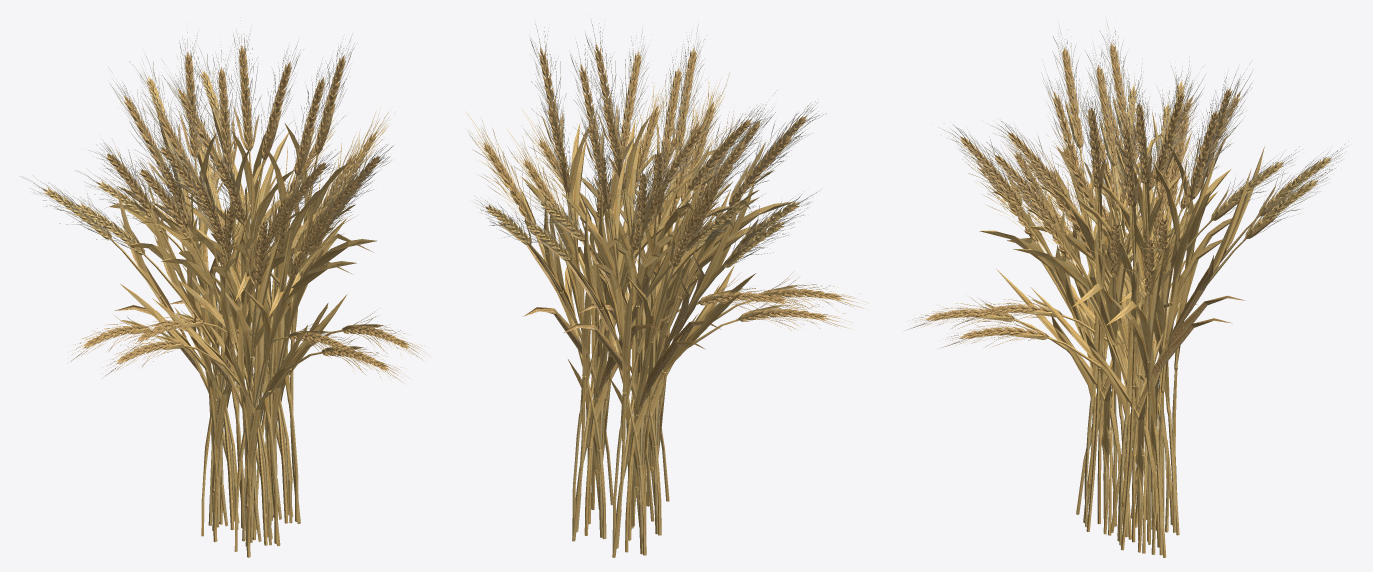
Rendered from ramillete-de-trigo-heno.glb.
3 renders of one model, left to right at view 1: azimuth 30°, elevation 25°; view 2: azimuth 150°, elevation 25°; view 3: azimuth 270°, elevation 25°, orthographic. The views are drawn at different scales.
Parts seen in each view (by area): view 1: SketchUp.126, SketchUp.002, SketchUp.003; view 2: SketchUp.126, SketchUp.002, SketchUp.003; view 3: SketchUp.126, SketchUp.002, SketchUp.003.
Part boxes in pixels (x1,y1,x2,y2): SketchUp.126: (42, 70, 397, 557); SketchUp.002: (68, 44, 430, 404); SketchUp.003: (23, 29, 393, 250); SketchUp.126: (466, 73, 827, 557); SketchUp.002: (483, 44, 867, 409); SketchUp.003: (472, 20, 826, 263); SketchUp.126: (953, 71, 1331, 557); SketchUp.002: (907, 42, 1288, 398); SketchUp.003: (938, 18, 1348, 233).
Bounding box in the file's own units: 0.4498 × 0.5847 × 0.5005.
Materials: 3 (2 with a texture image).
